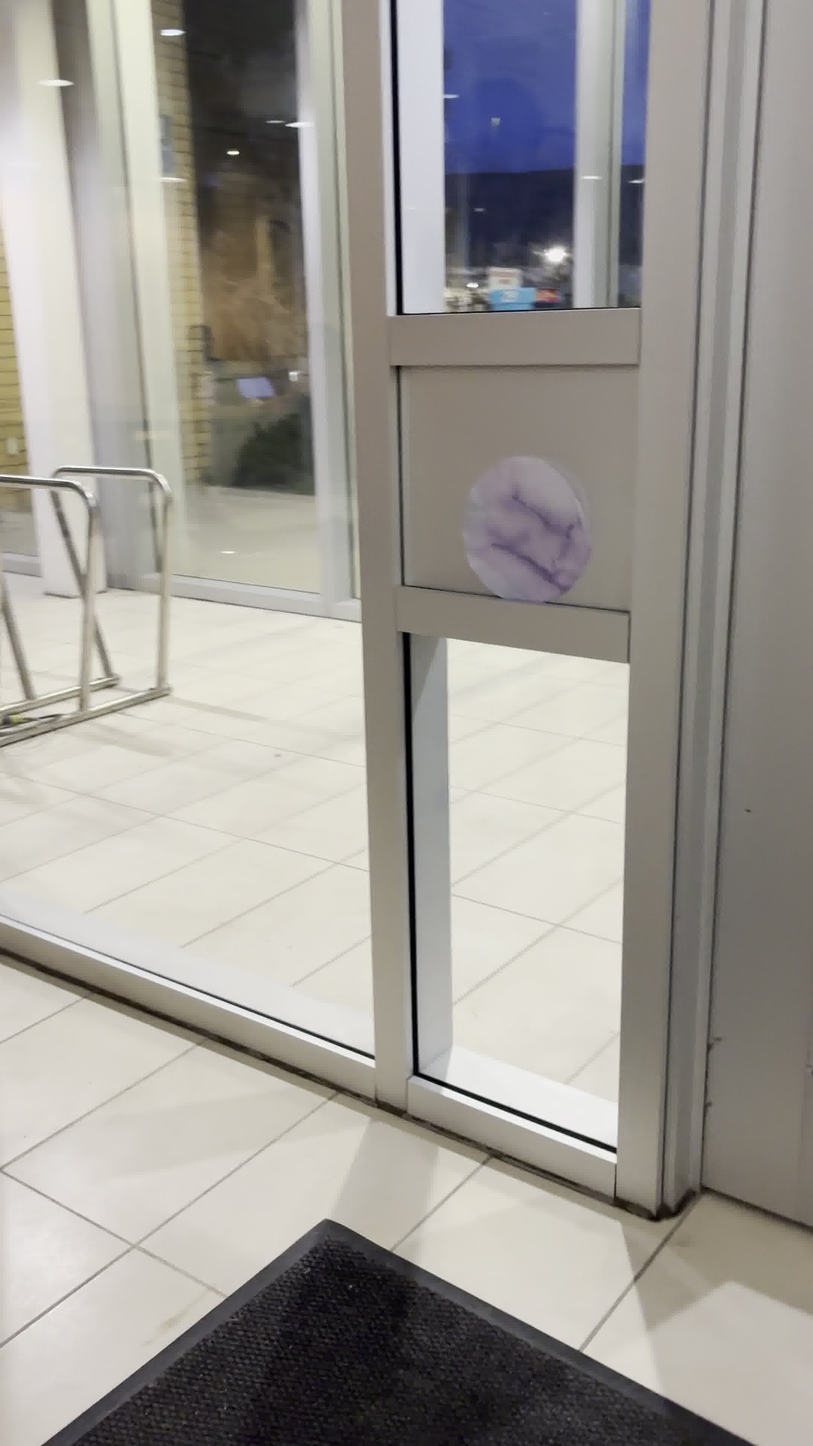Target: (458, 454, 596, 607)
